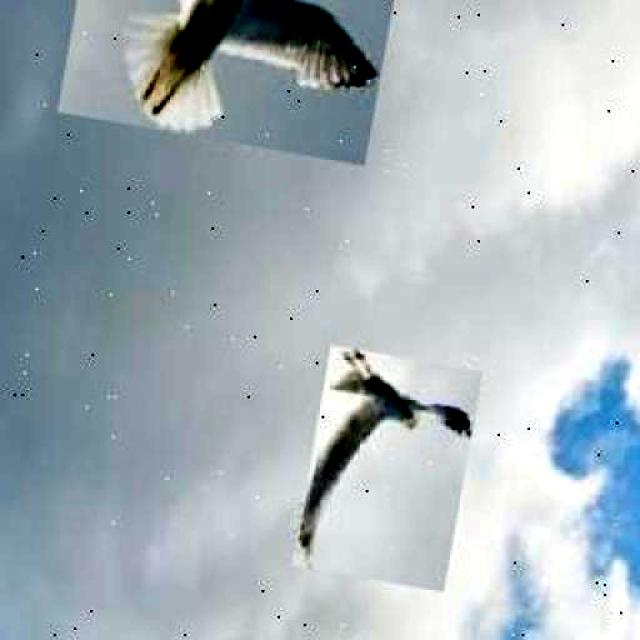airplane: (56, 0, 430, 165), (291, 344, 481, 592)
